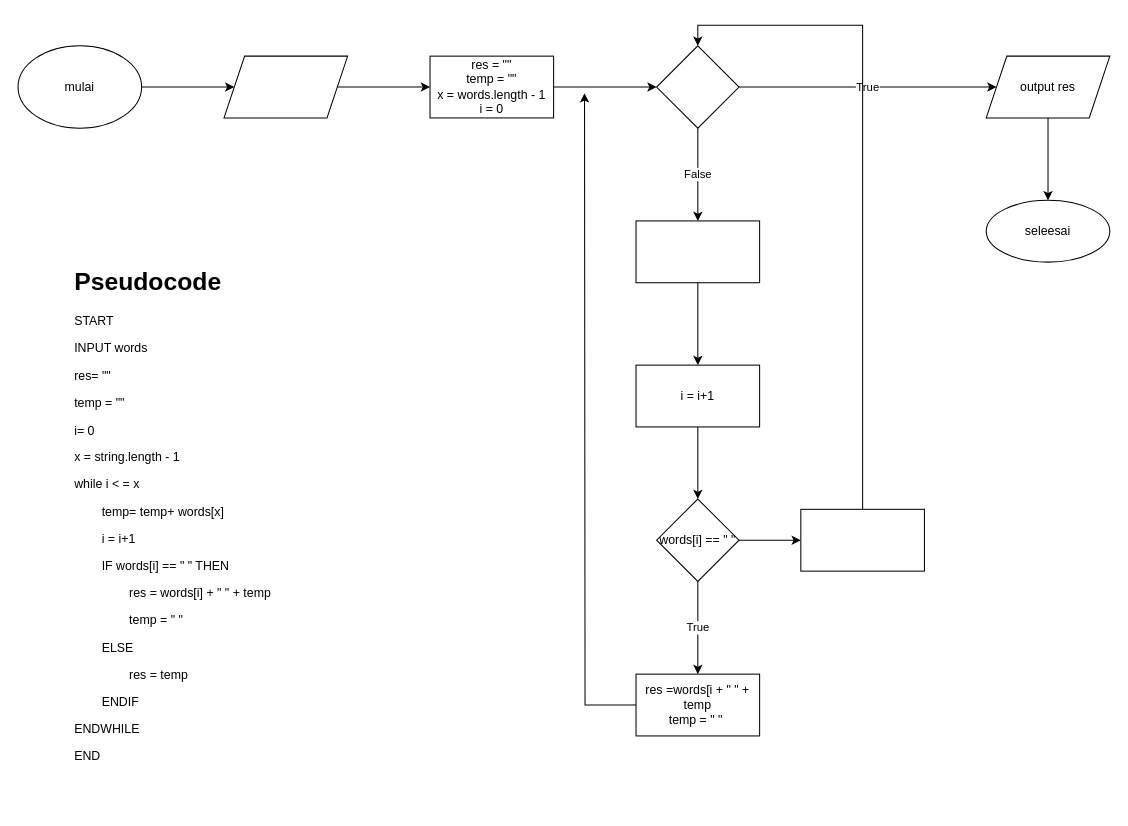
Some shapes in this 1128 by 826 pixel diagram are drawn without their labels. Each missing label, with the box of its shape:
i <= x: (656, 45, 739, 128)
res = temp: (800, 508, 924, 571)
temp = temp + words[i]: (635, 220, 760, 283)
words: (223, 55, 348, 118)
